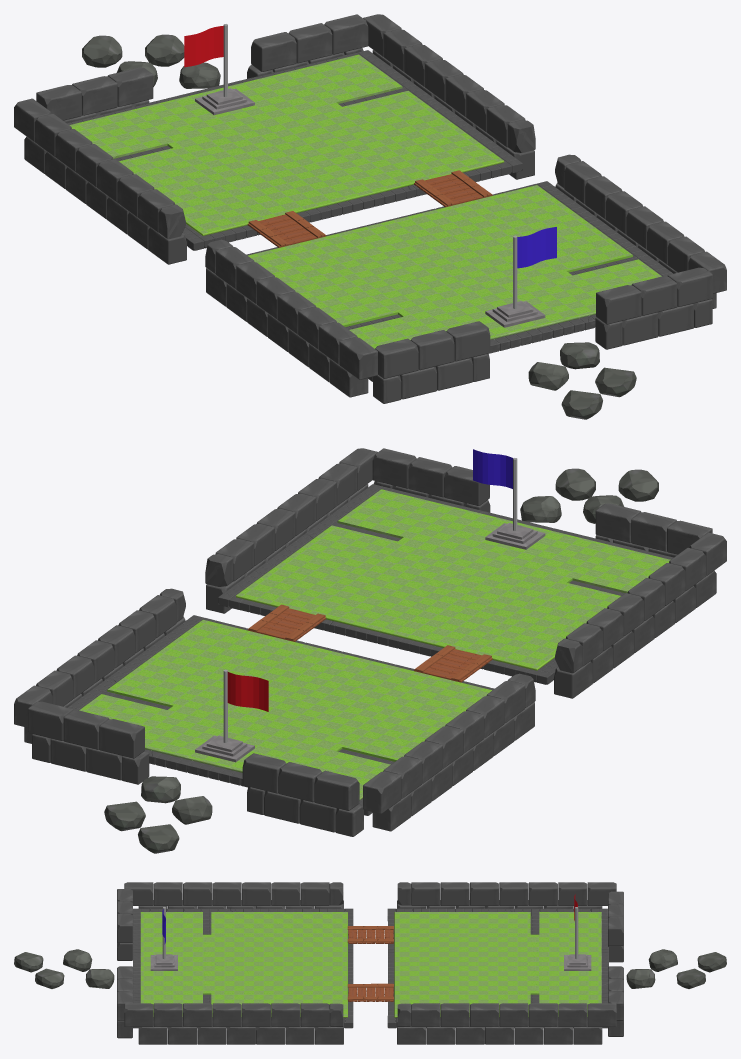
The model's file is map_tes1.fbx.
3 renders of one model, top to bottom at view 1: azimuth 30°, elevation 25°; view 2: azimuth 150°, elevation 25°; view 3: azimuth 270°, elevation 25°, orthographic. The views are drawn at different scales.
Parts seen in each view (by area): view 1: Plane.002, Cube.005, Cube.001, Cube.003, Icosphere.002, Cube.006, Cube.002, Cube.008, Cube.004, Cube.009, Plane.012, Plane.006 (+6 smaller); view 2: Plane.002, Cube.005, Cube.001, Cube.003, Icosphere.002, Cube.006, Cube.002, Cube.008, Cube.004, Cube.009, Plane.012, Plane.006 (+6 smaller); view 3: Plane.002, Cube.005, Cube.003, Icosphere.002, Cube.001, Cube.002, Cube.004, Cube.009, Plane.012, Cube.006, Cube.008, Plane.006 (+4 smaller).
Boxes of the visible parts, x1=… form: Plane.002: x1=69, y1=54, x2=661, y2=348; Cube.005: x1=14, y1=14, x2=726, y2=379; Cube.001: x1=36, y1=14, x2=712, y2=378; Cube.003: x1=24, y1=50, x2=716, y2=397; Icosphere.002: x1=82, y1=34, x2=636, y2=419; Cube.006: x1=63, y1=48, x2=712, y2=403; Cube.002: x1=182, y1=50, x2=672, y2=381; Cube.008: x1=210, y1=164, x2=526, y2=255; Cube.004: x1=158, y1=120, x2=580, y2=273; Cube.009: x1=67, y1=55, x2=596, y2=353; Plane.012: x1=247, y1=174, x2=492, y2=247; Plane.006: x1=195, y1=88, x2=545, y2=327; Plane.002: x1=79, y1=489, x2=670, y2=800; Cube.005: x1=14, y1=448, x2=726, y2=813; Cube.001: x1=28, y1=448, x2=712, y2=810; Cube.003: x1=24, y1=484, x2=716, y2=831; Icosphere.002: x1=104, y1=468, x2=658, y2=853; Cube.006: x1=32, y1=481, x2=677, y2=836; Cube.002: x1=68, y1=484, x2=558, y2=815; Cube.008: x1=213, y1=599, x2=530, y2=690; Cube.004: x1=160, y1=554, x2=582, y2=707; Cube.009: x1=144, y1=489, x2=673, y2=787; Plane.012: x1=247, y1=608, x2=492, y2=682; Plane.006: x1=195, y1=523, x2=545, y2=762; Plane.002: x1=140, y1=912, x2=601, y2=1017; Cube.005: x1=124, y1=882, x2=616, y2=1026; Cube.003: x1=138, y1=900, x2=602, y2=1044; Icosphere.002: x1=14, y1=949, x2=726, y2=988; Cube.001: x1=117, y1=889, x2=623, y2=1020; Cube.002: x1=133, y1=908, x2=607, y2=1028; Cube.004: x1=329, y1=882, x2=411, y2=1026; Cube.009: x1=133, y1=916, x2=608, y2=1003; Plane.012: x1=348, y1=929, x2=393, y2=1001; Cube.006: x1=117, y1=943, x2=623, y2=1038; Cube.008: x1=348, y1=916, x2=394, y2=1015; Plane.006: x1=150, y1=954, x2=591, y2=970.
Bounding box in the file's own units: 719 × 193 × 1694.
Materials: 9 (6 with a texture image).
